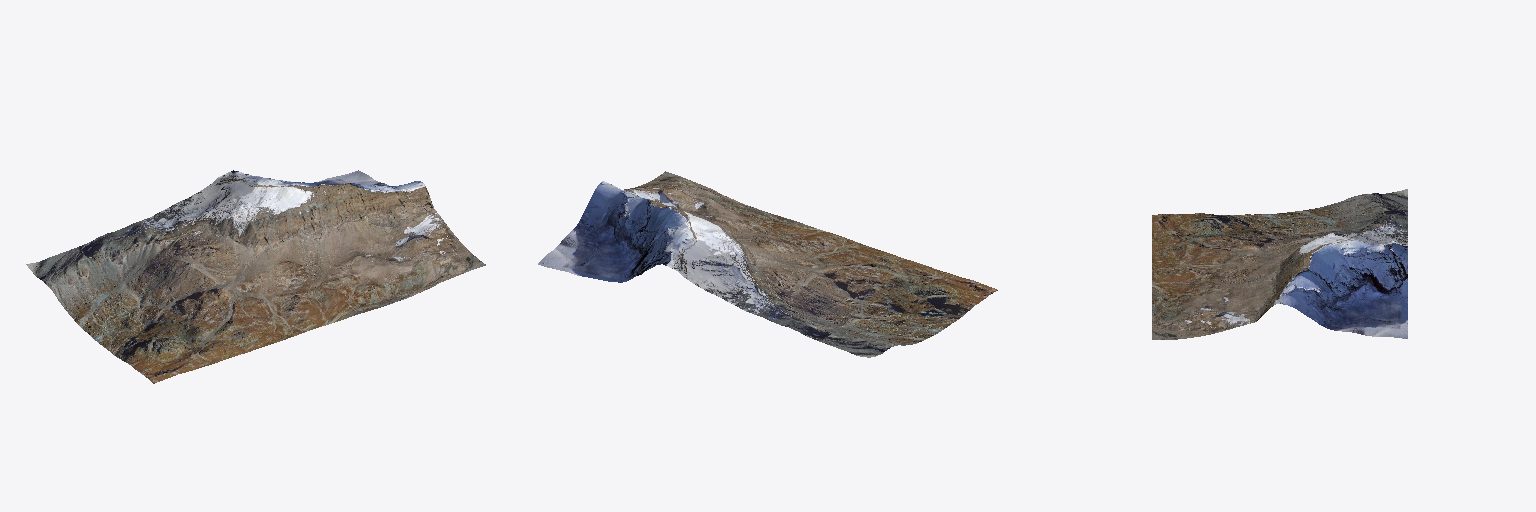
3 renders of one model, left to right at view 1: azimuth 30°, elevation 25°; view 2: azimuth 150°, elevation 25°; view 3: azimuth 270°, elevation 25°, orthographic.
Parts seen in each view (by area): view 1: EXPORT_GOOGLE_SAT_WM.010; view 2: EXPORT_GOOGLE_SAT_WM.010; view 3: EXPORT_GOOGLE_SAT_WM.010.
Boxes of the visible parts, x1=… form: EXPORT_GOOGLE_SAT_WM.010: x1=26, y1=170, x2=485, y2=383; EXPORT_GOOGLE_SAT_WM.010: x1=538, y1=171, x2=997, y2=357; EXPORT_GOOGLE_SAT_WM.010: x1=1152, y1=189, x2=1407, y2=339.
Size of the model in its own units: 4562 by 1060 by 3041.
1 materials, 1 textured.